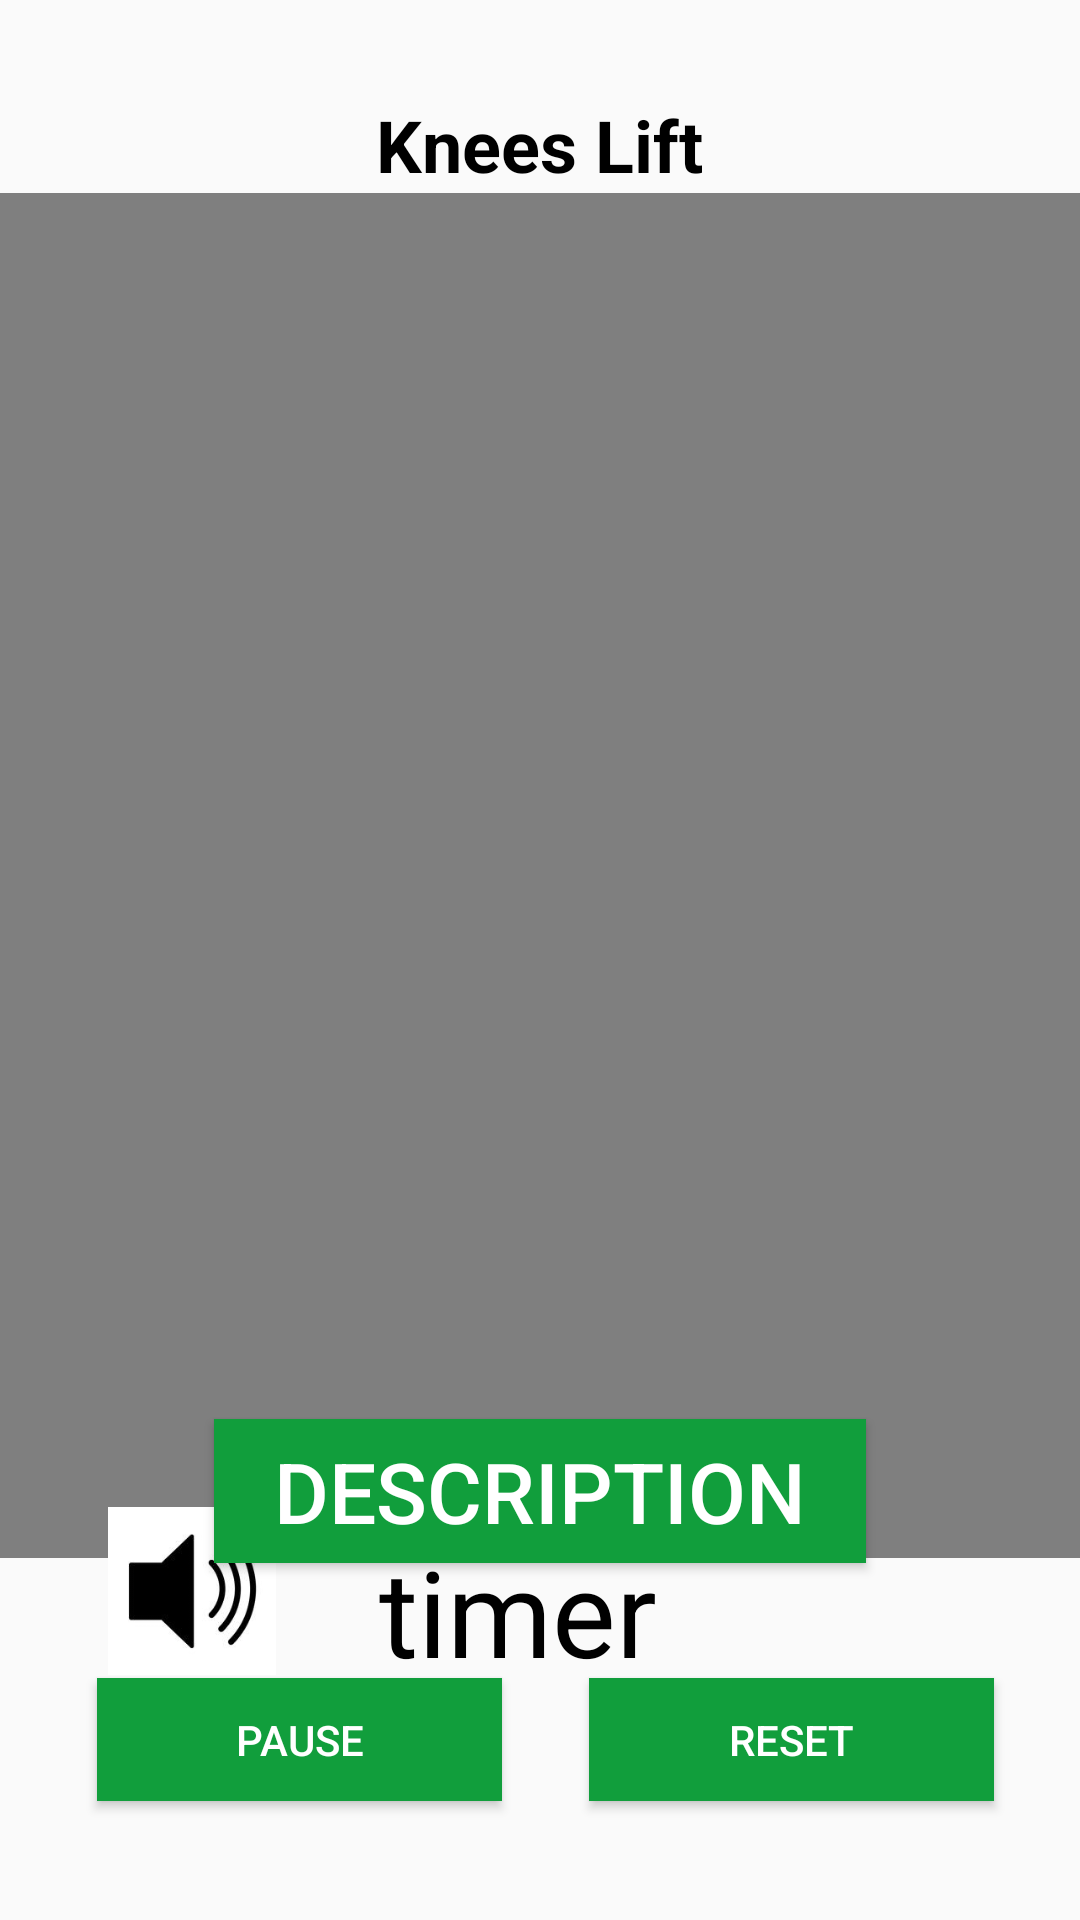

Point at icon controls on the screen. Image size 1080px x 1920px, points as point (x, y).
speakericon: point (192, 1591)
